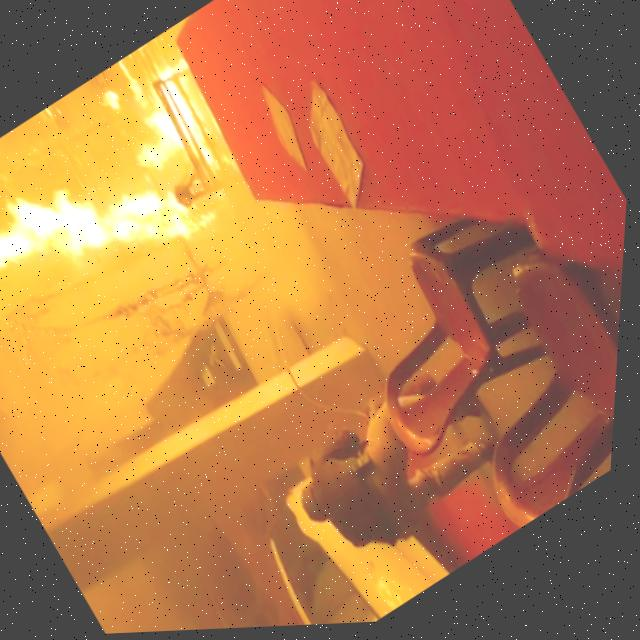Fire: (0, 99, 231, 359)
